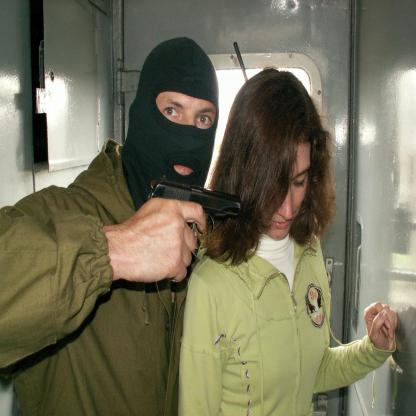pistol: (149, 176, 248, 242)
